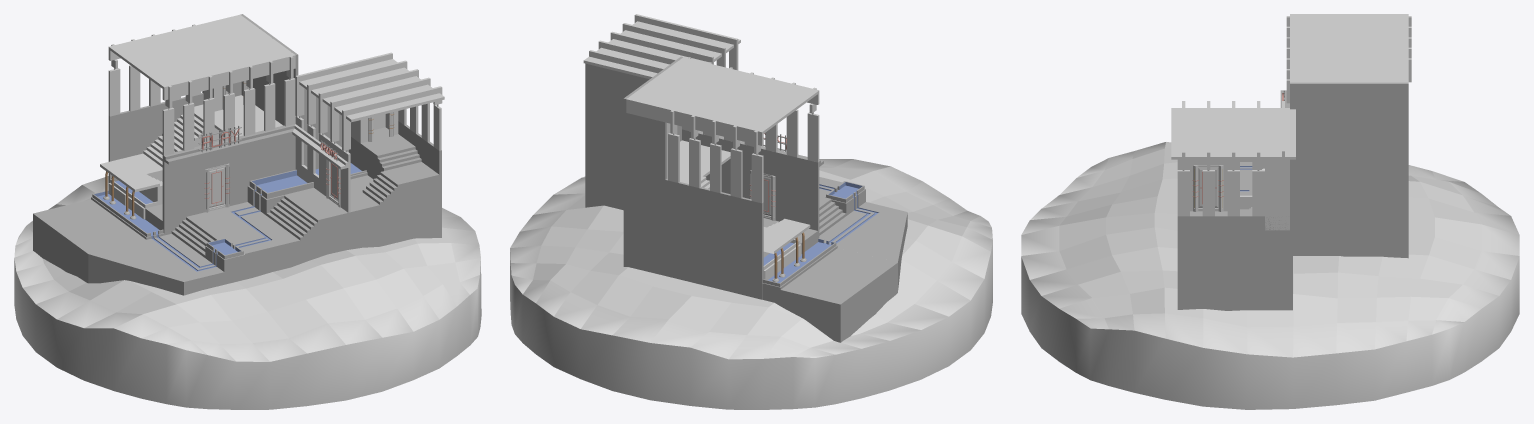
Rendered from maquette_menu.fbx.
3 renders of one model, left to right at view 1: azimuth 30°, elevation 25°; view 2: azimuth 150°, elevation 25°; view 3: azimuth 270°, elevation 25°, orthographic. The views are drawn at different scales.
Parts seen in each view (by area): view 1: Plane.012, Cube.006, Cube.001, L1_pergola2, L1_pergola2.002, Cube.008, Cube.007, L1_pergola2.001, Cube.010, Cube.002, Cube.003, L1_pergola2.003 (+6 smaller); view 2: Plane.012, Cube.001, L1_pergola2, Cube.007, Cube.008, L1_pergola2.002, Cube.006, Cube.002, L1_pergola2.001, Cube.005, module_porte_snap.001, Cube.000; view 3: Plane.012, Cube.001, Cube.008, L1_pergola2, L1_pergola2.002, L1_pergola2.003, Plane, module_porte_snap.
Boxes of the visible parts, x1,y1,x2,y2 form: Plane.012: [14, 176, 481, 409]; Cube.006: [88, 188, 350, 295]; Cube.001: [108, 14, 298, 235]; L1_pergola2: [108, 14, 295, 116]; L1_pergola2.002: [292, 52, 444, 212]; Cube.008: [300, 88, 441, 249]; Cube.007: [33, 190, 164, 282]; L1_pergola2.001: [162, 56, 295, 155]; Cube.010: [349, 127, 439, 204]; Cube.002: [100, 95, 282, 205]; Cube.003: [247, 169, 314, 215]; L1_pergola2.003: [398, 60, 442, 150]; Plane.012: [510, 159, 992, 409]; Cube.001: [623, 56, 823, 299]; L1_pergola2: [626, 57, 819, 203]; Cube.007: [762, 238, 897, 342]; Cube.008: [585, 63, 649, 210]; L1_pergola2.002: [583, 14, 740, 79]; Cube.006: [819, 177, 907, 289]; Cube.002: [680, 140, 810, 257]; L1_pergola2.001: [682, 57, 819, 162]; Cube.005: [826, 181, 865, 215]; module_porte_snap.001: [749, 170, 775, 220]; Cube.000: [763, 239, 801, 279]; Plane.012: [1021, 142, 1519, 409]; Cube.001: [1280, 82, 1408, 258]; Cube.008: [1177, 159, 1292, 310]; L1_pergola2: [1290, 14, 1411, 82]; L1_pergola2.002: [1171, 101, 1295, 211]; L1_pergola2.003: [1177, 151, 1264, 216]; Plane: [1265, 159, 1289, 230]; module_porte_snap: [1192, 165, 1223, 211].
Bounding box in the file's own units: 1.6 × 0.8878 × 1.6.
